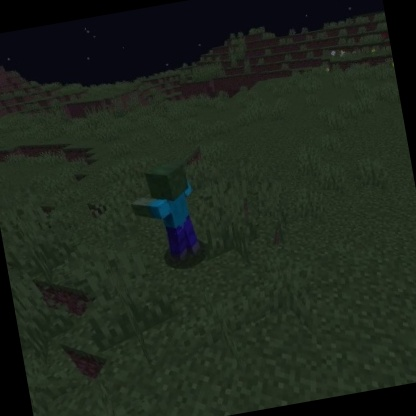zombie: (123, 156, 207, 272)
